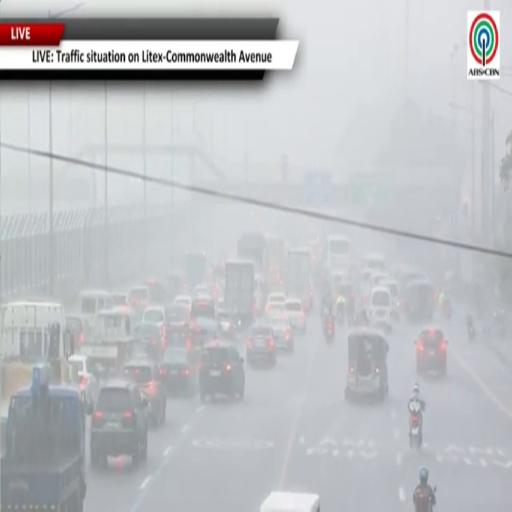car: (90, 381, 148, 468), (123, 360, 166, 427), (200, 341, 245, 402), (160, 346, 199, 395), (68, 355, 99, 408), (415, 328, 447, 375), (132, 323, 168, 360), (246, 325, 276, 366), (66, 314, 93, 350), (270, 316, 294, 353), (191, 317, 220, 346), (285, 299, 306, 334), (168, 325, 193, 350), (191, 296, 215, 322), (217, 310, 235, 338), (167, 304, 190, 325), (265, 293, 286, 314), (173, 295, 192, 311), (265, 303, 285, 318), (111, 293, 129, 307)
motorcycle: (409, 402, 422, 450), (409, 413, 422, 450), (416, 491, 433, 511), (324, 316, 335, 344), (443, 299, 452, 321), (336, 307, 345, 326), (467, 324, 475, 342)
truck: (0, 364, 91, 511), (80, 339, 134, 378), (224, 261, 254, 328), (285, 248, 312, 310), (237, 231, 266, 273), (266, 237, 285, 289), (185, 251, 208, 292)
